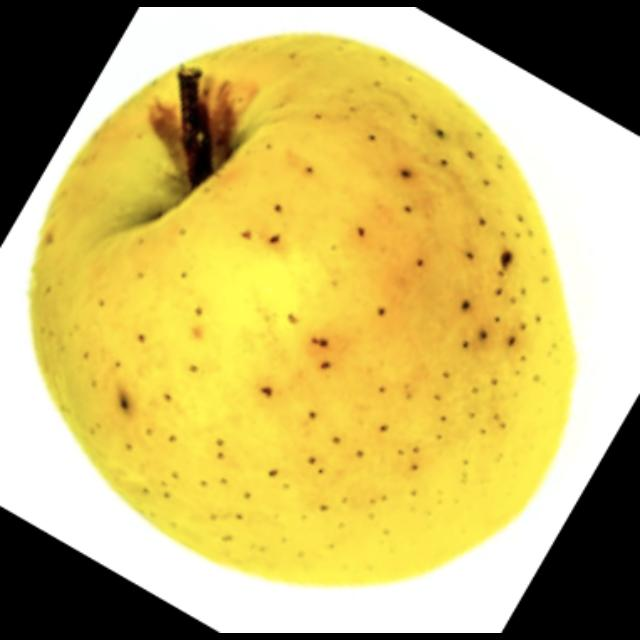Apel Tidak Segar: (16, 23, 600, 594)
